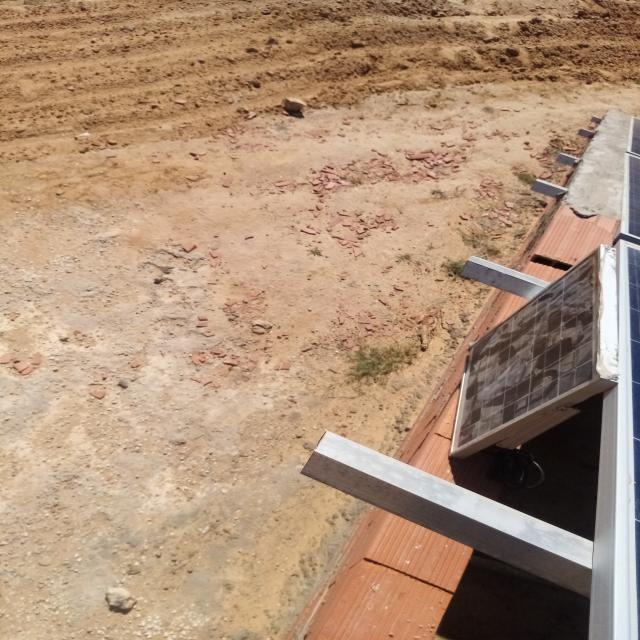faulty: (450, 247, 601, 455)
